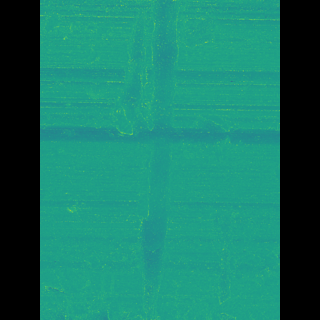Loch: (126, 0, 176, 320), (196, 190, 228, 320), (182, 102, 221, 168)
